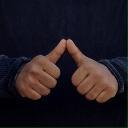hand: (66, 38, 118, 103), (14, 38, 66, 100)
